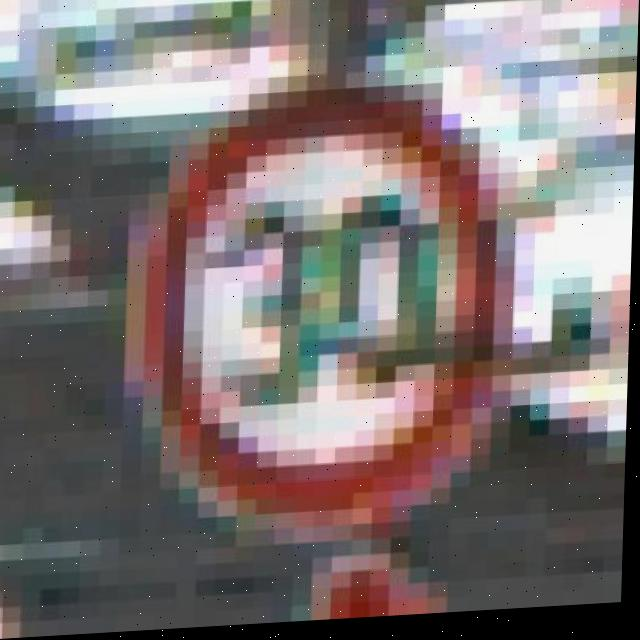Speed limit 30: (152, 98, 506, 541)
